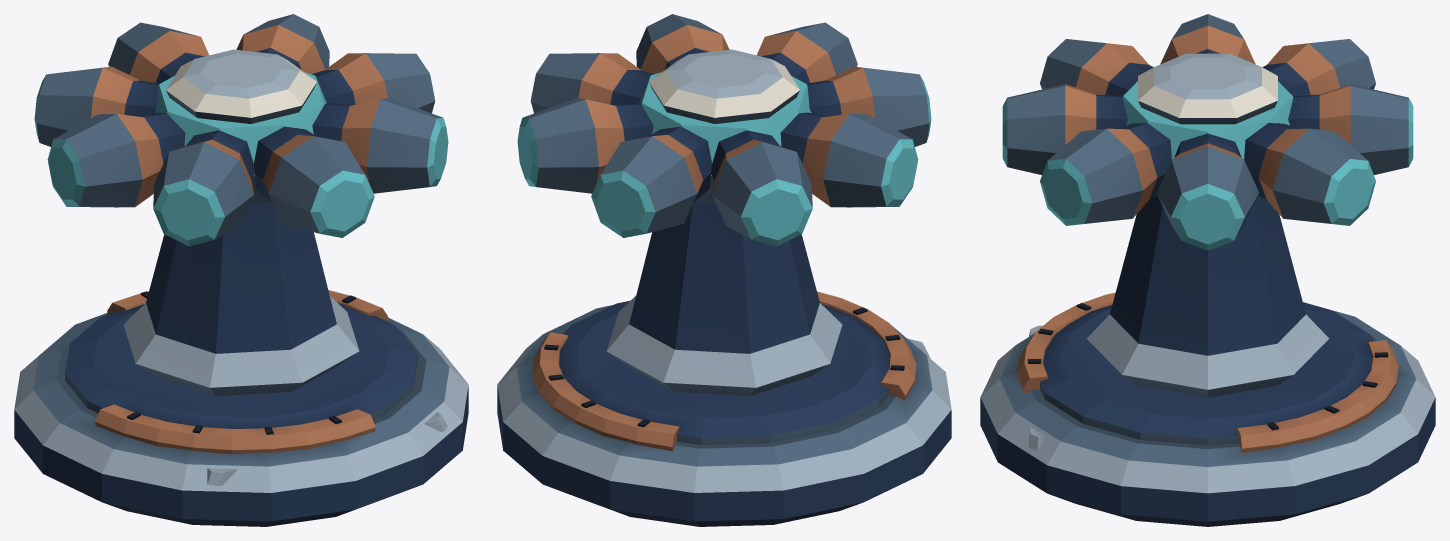
Rendered from starburst.glb.
3 views of the same model, side by side, from view 1: azimuth 30°, elevation 25°; view 2: azimuth 150°, elevation 25°; view 3: azimuth 270°, elevation 25° (orthographic).
Parts seen in each view (by area): view 1: starburst; view 2: starburst; view 3: starburst.
Boxes of the visible parts, x1=… form: starburst: x1=14, y1=14, x2=468, y2=526; starburst: x1=497, y1=14, x2=951, y2=526; starburst: x1=980, y1=14, x2=1435, y2=526.
Bounding box in the file's own units: 1.02 × 0.926 × 1.02.
